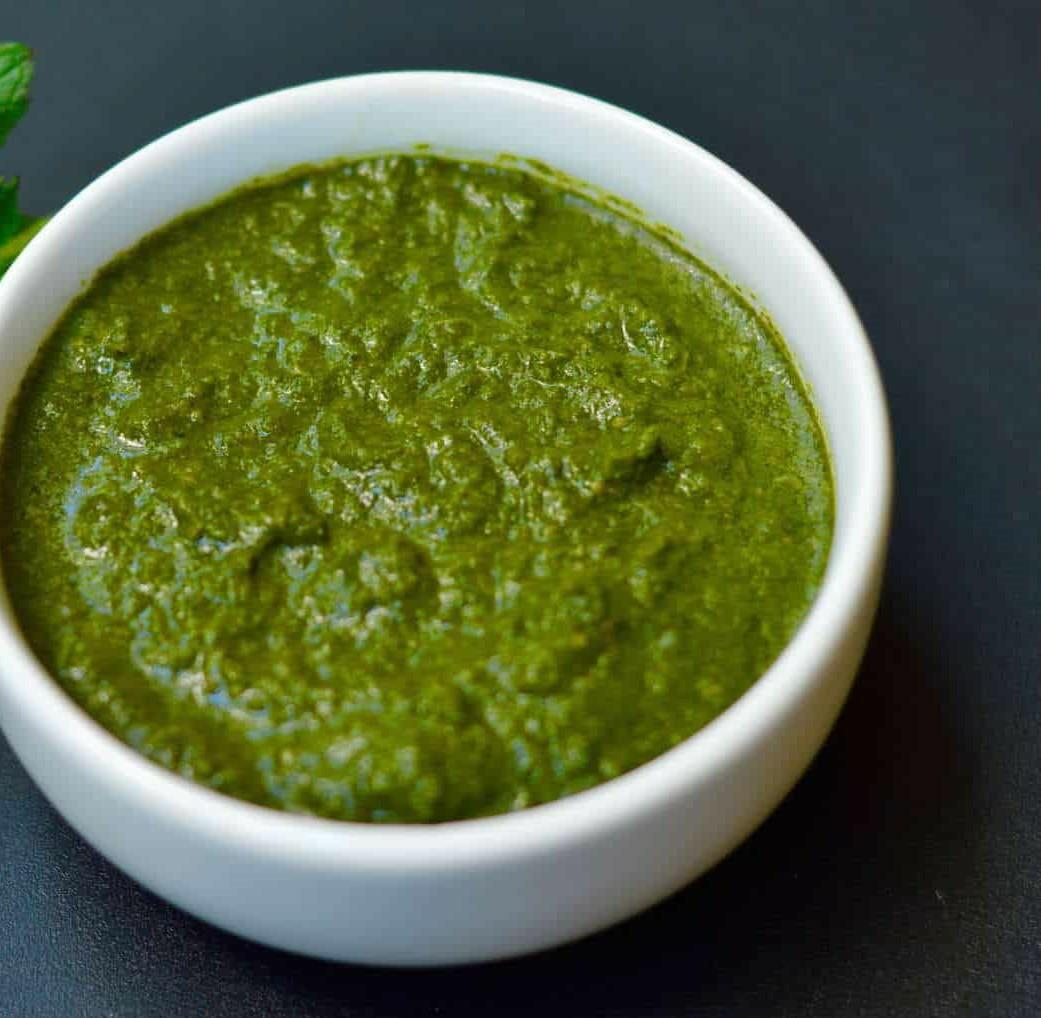GreenChutney: (0, 151, 833, 825)
